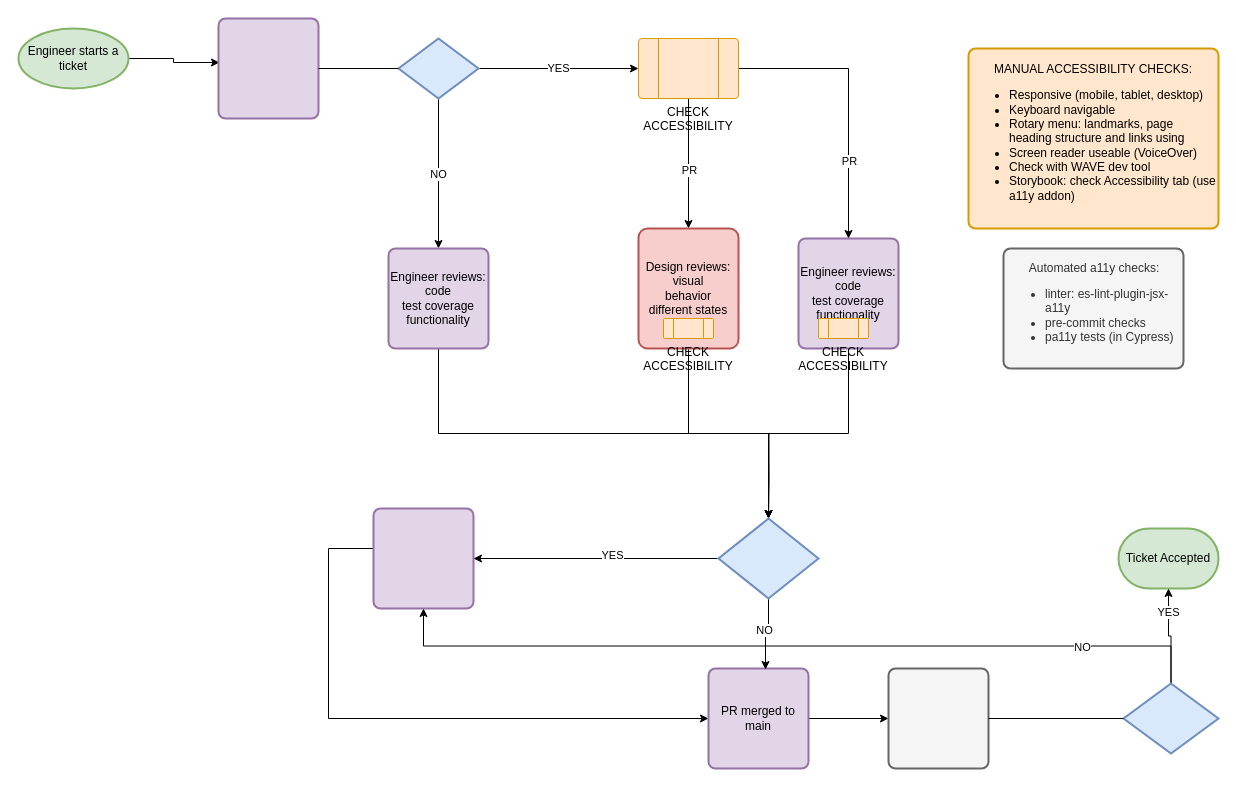
The diagram is 1236 pixels wide and 786 high, and some of its shapes have lost their labels. Here are the shapes that lost their labels. From the top down, the centre of each, then its label:
At pixel 268 68: "Engineer checks own code, ensures tests coverage".
At pixel 438 68: "Includes UI?".
At pixel 423 558: "Changes applied and re-reviewed".
At pixel 768 558: "CHANGES REQUESTED?".
At pixel 938 718: "Product reviews in dev env for AC".
At pixel 1170 718: "ACCEPTED?".
